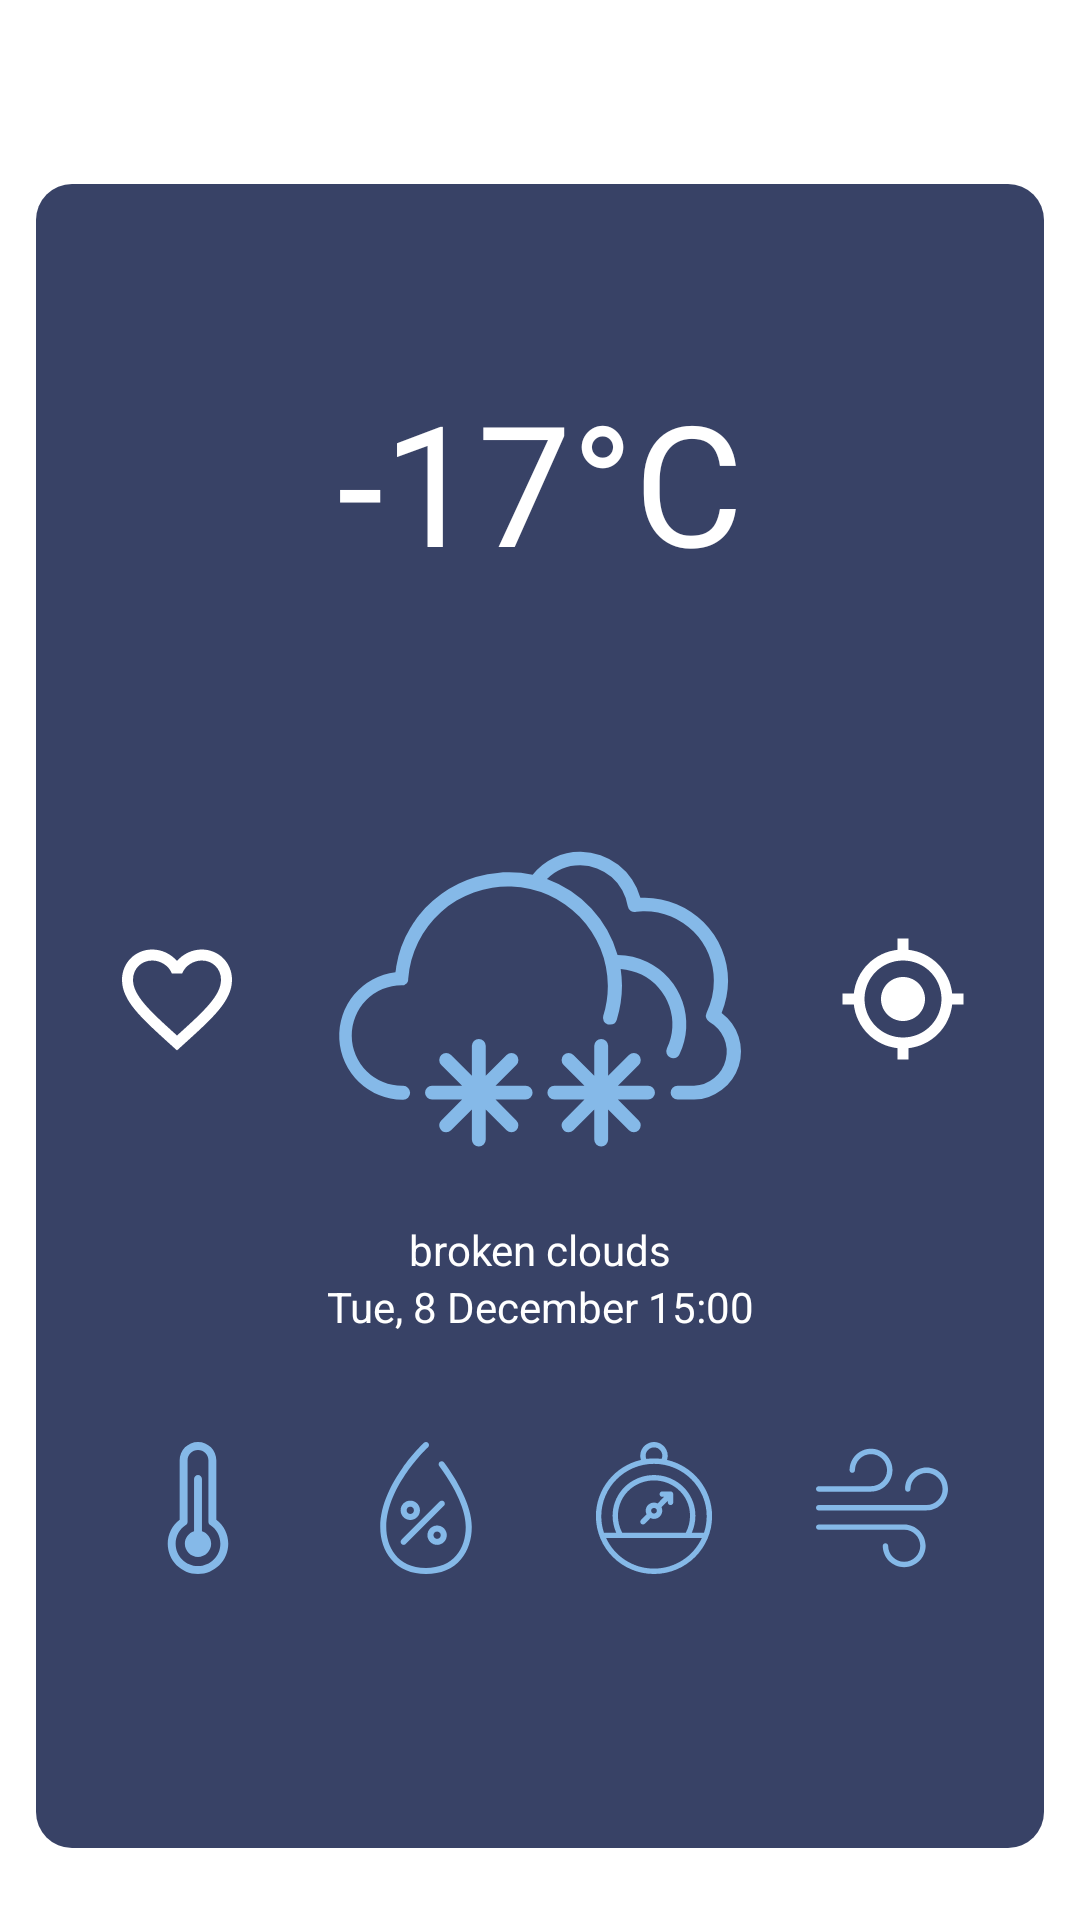

Where to tap for icons on this 1080px×1920px app screen, as (x,y):
favorite border: (177,999)
humidity: (426,1508)
location: (903,999)
pressure: (654,1508)
temperature: (198,1508)
wind: (882,1508)
